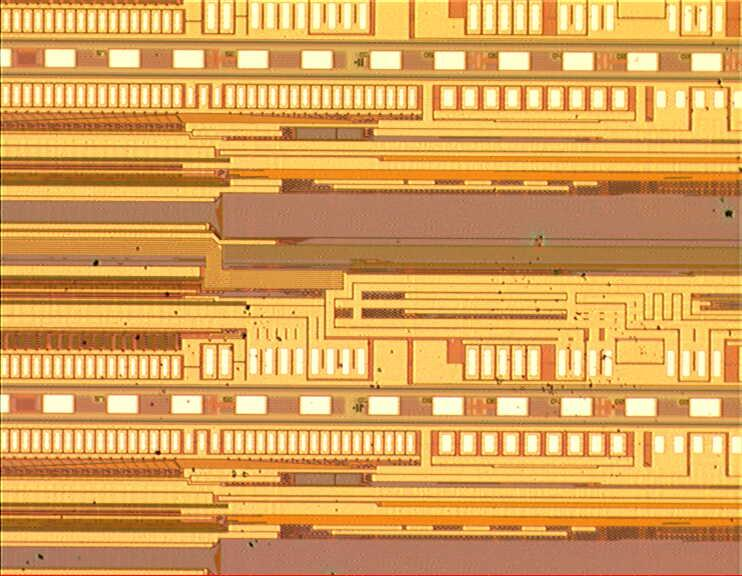SCRATCH: (19, 79, 742, 576)
